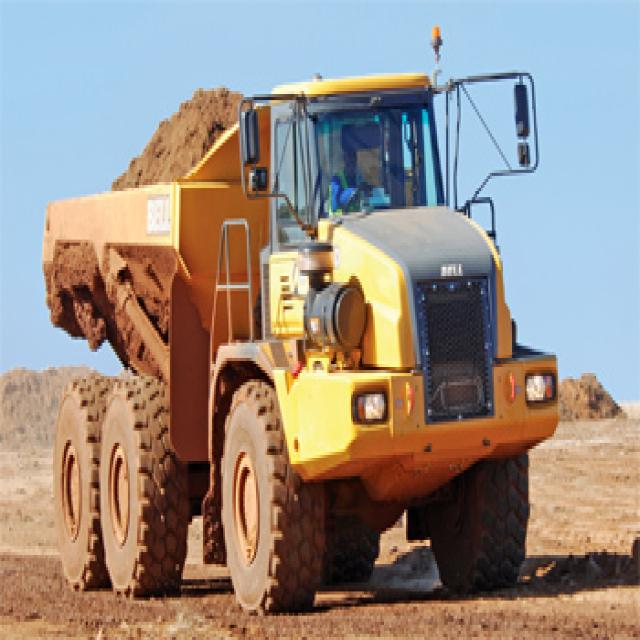dump_truck: (37, 39, 560, 622)
